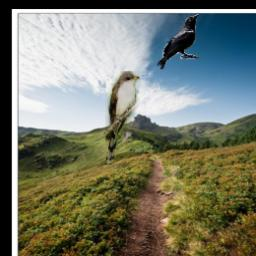Crow: (158, 13, 200, 69)
Cuckoo: (106, 72, 141, 166)
